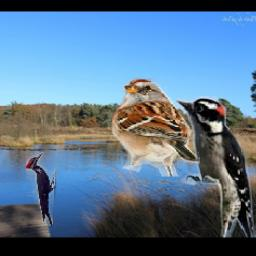Sparrow: (111, 78, 199, 177)
Woodpecker: (176, 96, 256, 237), (26, 152, 56, 226)
